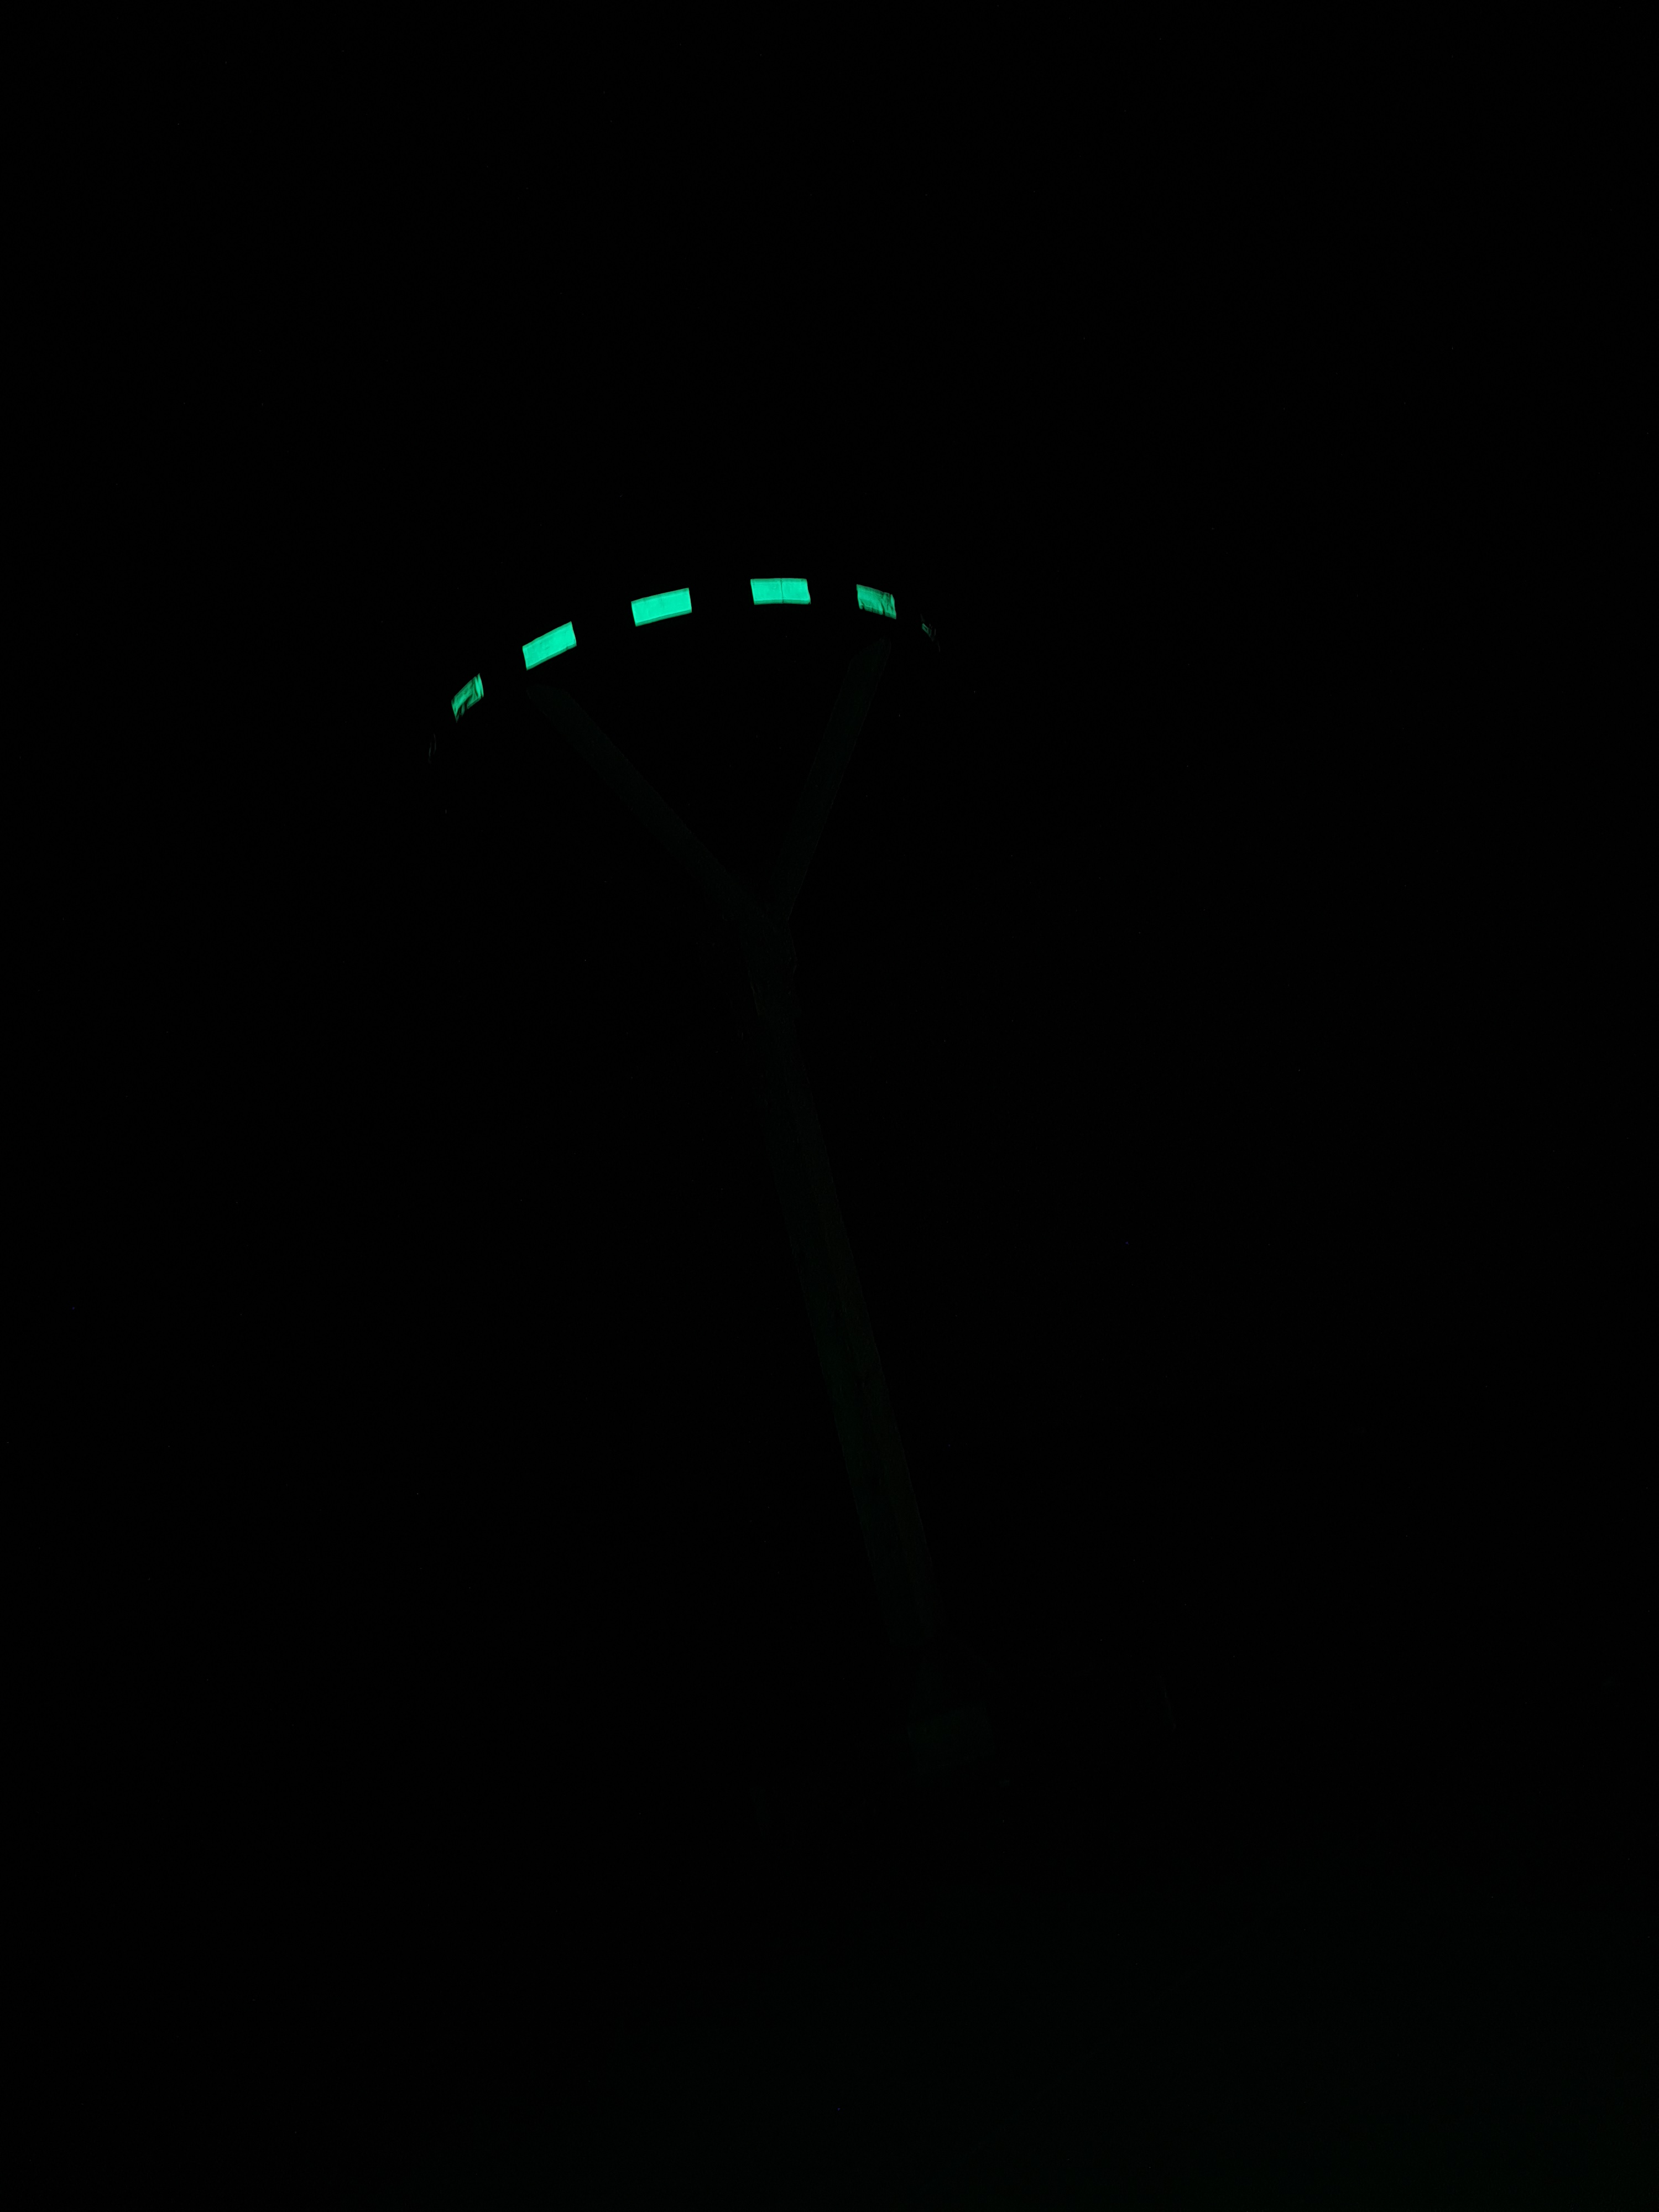hoop: (441, 580, 899, 718)
